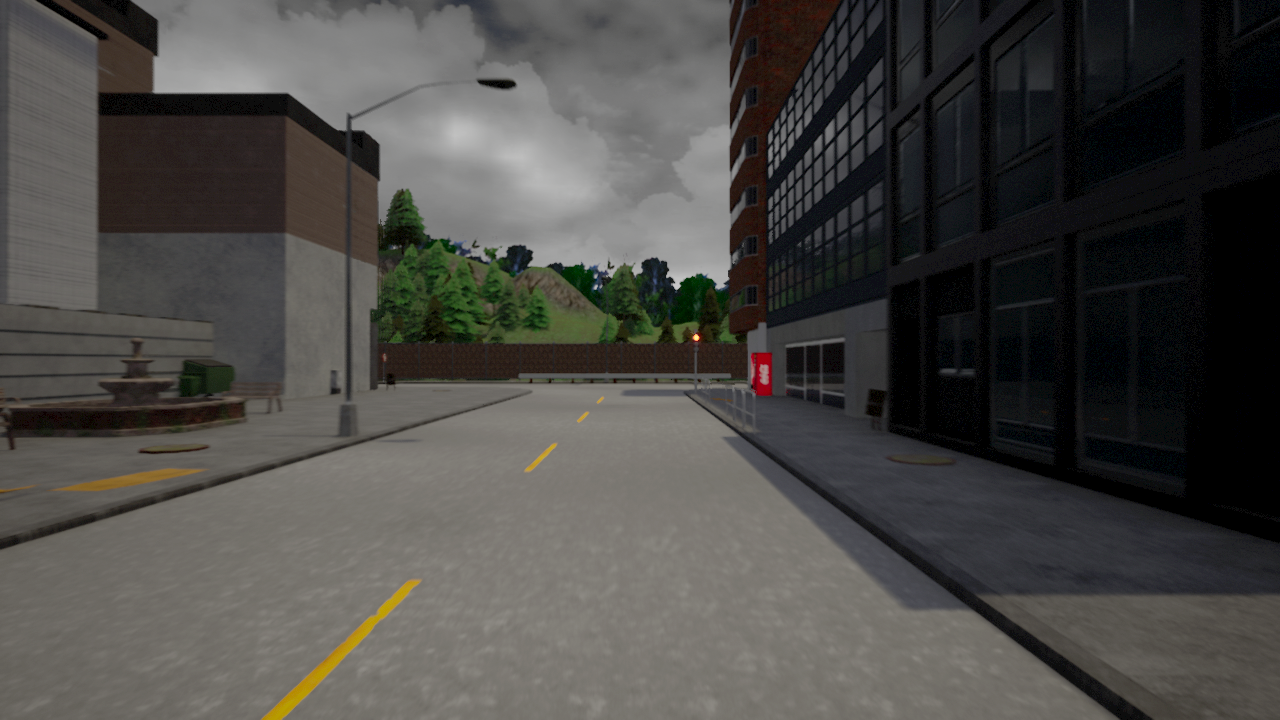red: (691, 333, 699, 353)
